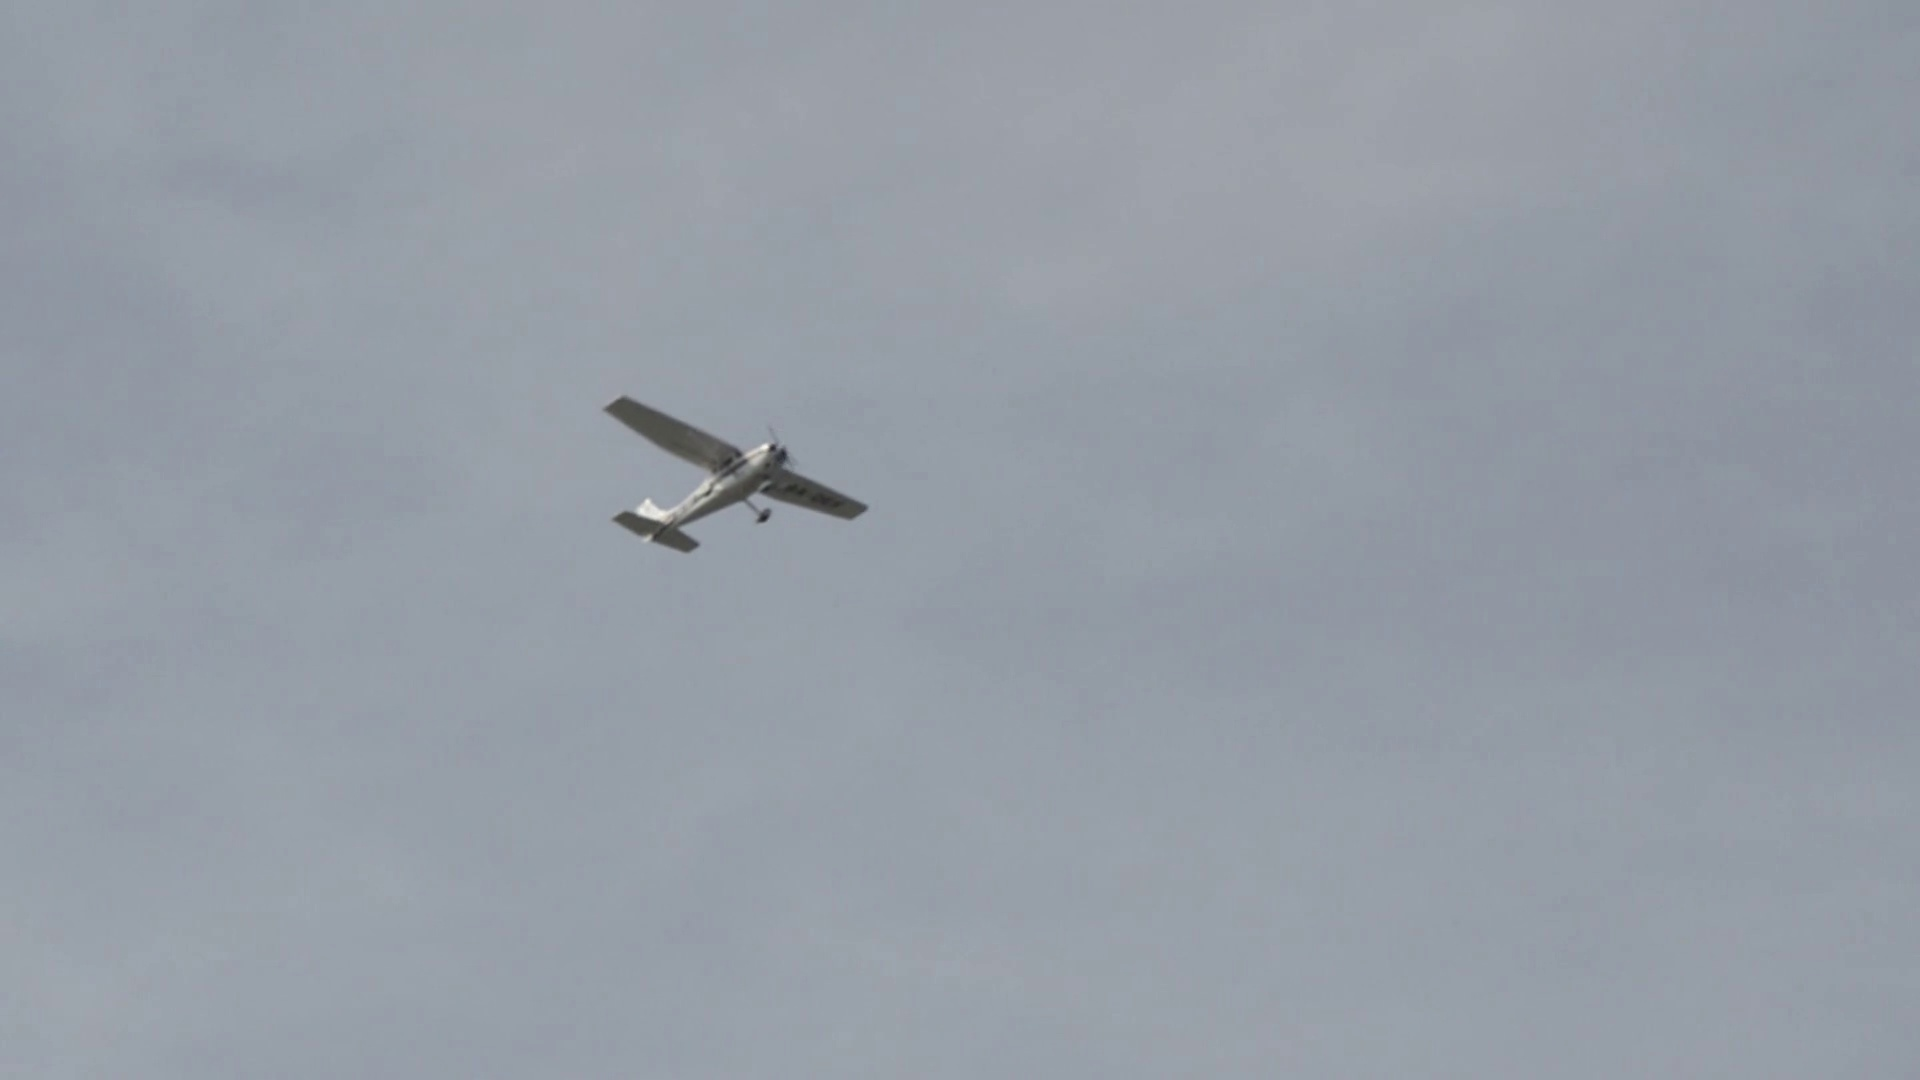plane: (601, 396, 869, 555)
